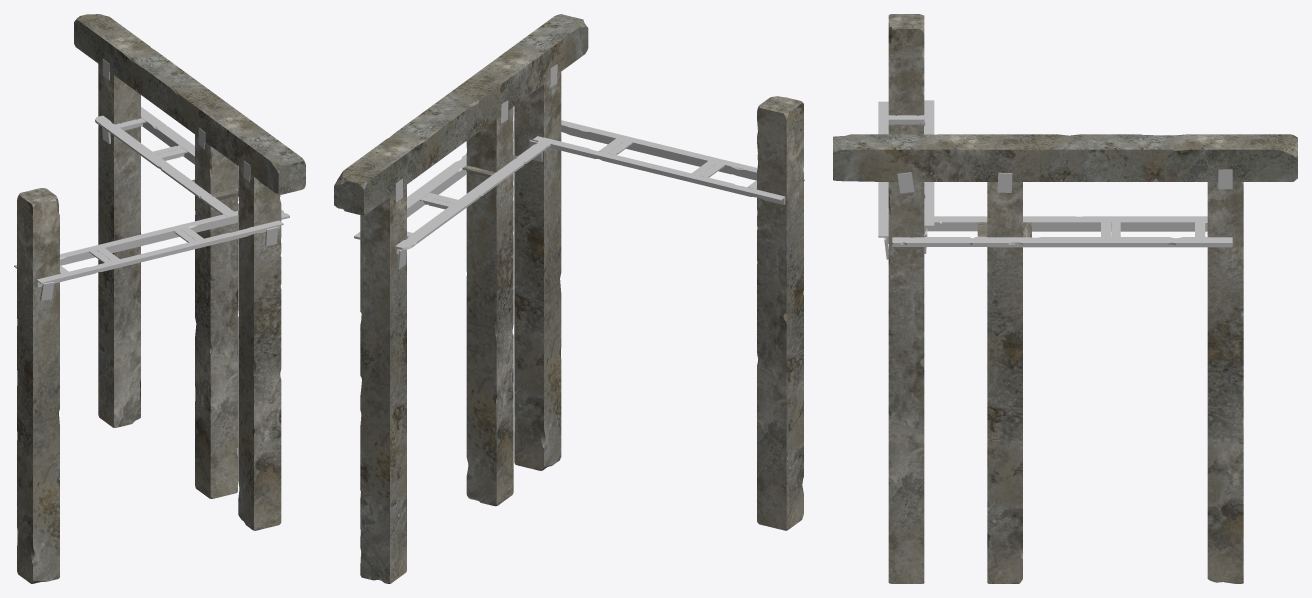
The model's file is opota_truba_003 1.fbx.
The picture shows the model from 3 angles, left to right: view 1: azimuth 30°, elevation 25°; view 2: azimuth 150°, elevation 25°; view 3: azimuth 270°, elevation 25°; orthographic projection. The views are drawn at different scales.
Visible parts, largest first — view 1: opora_rtuba_002; view 2: opora_rtuba_002; view 3: opora_rtuba_002.
Part boxes in pixels (box(x1,y1,x2,y2)): opora_rtuba_002: box(14, 14, 305, 583); opora_rtuba_002: box(334, 14, 804, 583); opora_rtuba_002: box(833, 14, 1297, 583).
Size of the model in its own units: 285 by 402 by 390.
